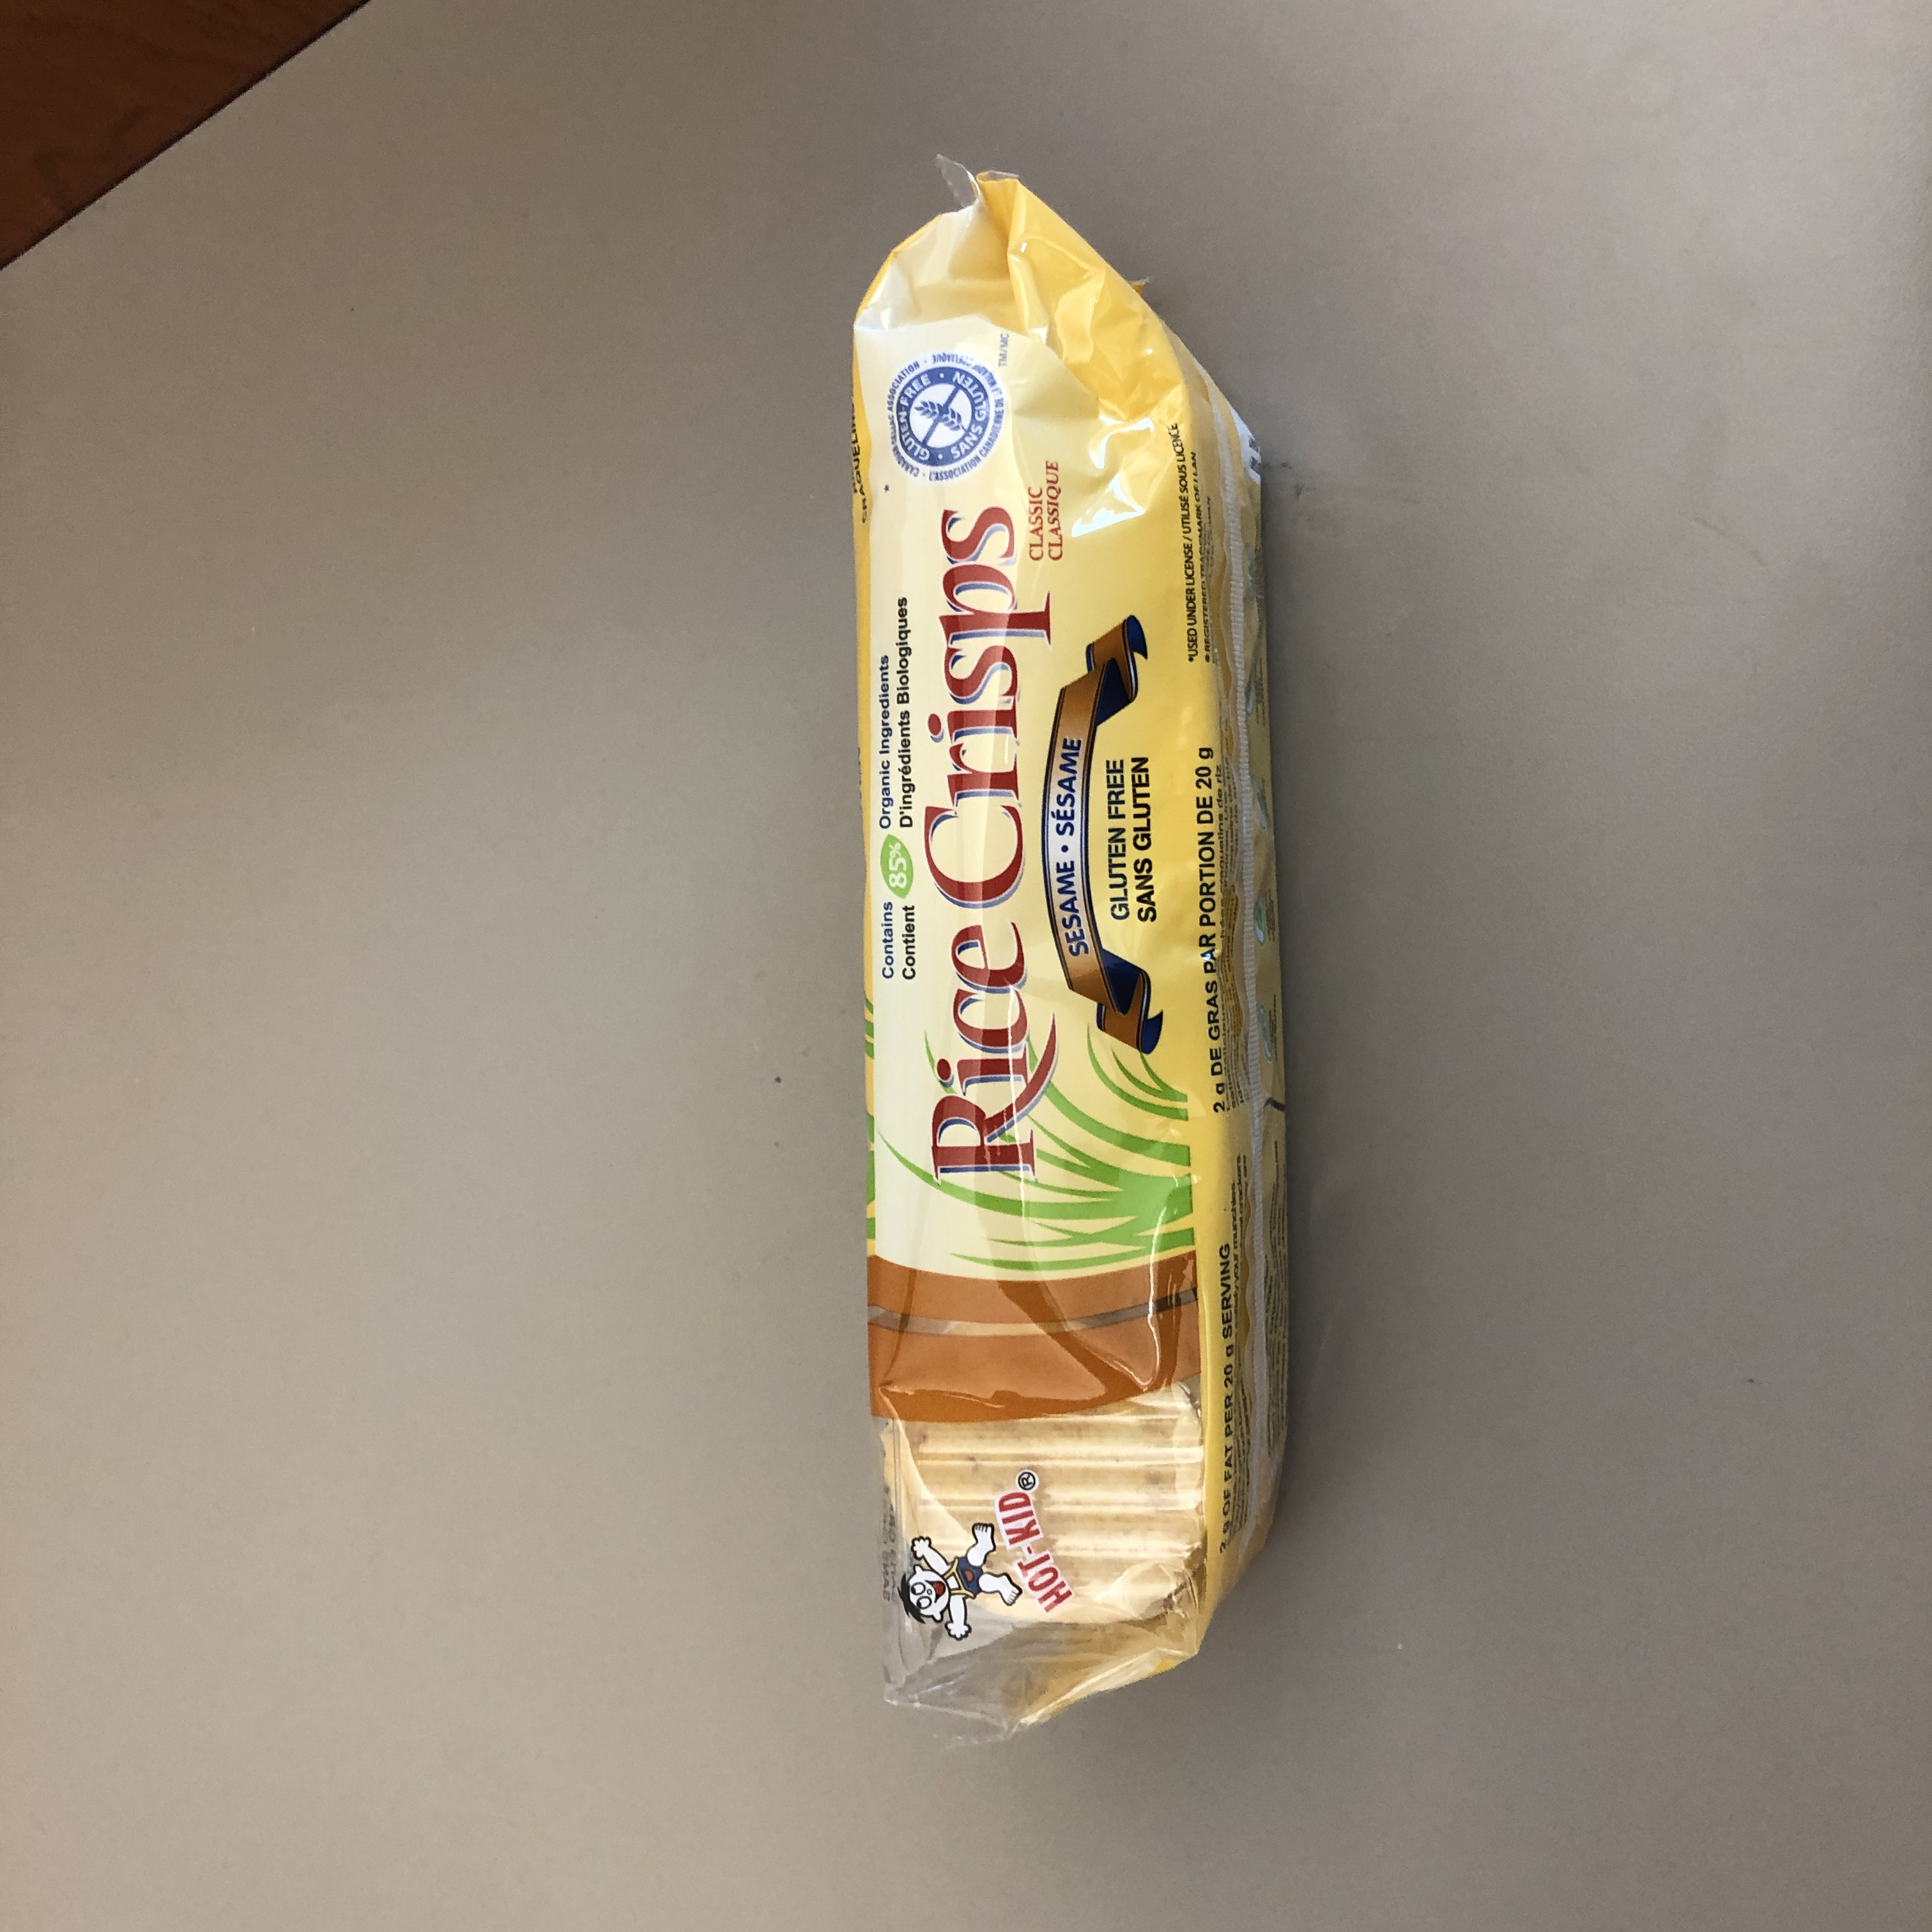hot_kid_rice_crisps_sesame: (187, 666, 1751, 1097)
